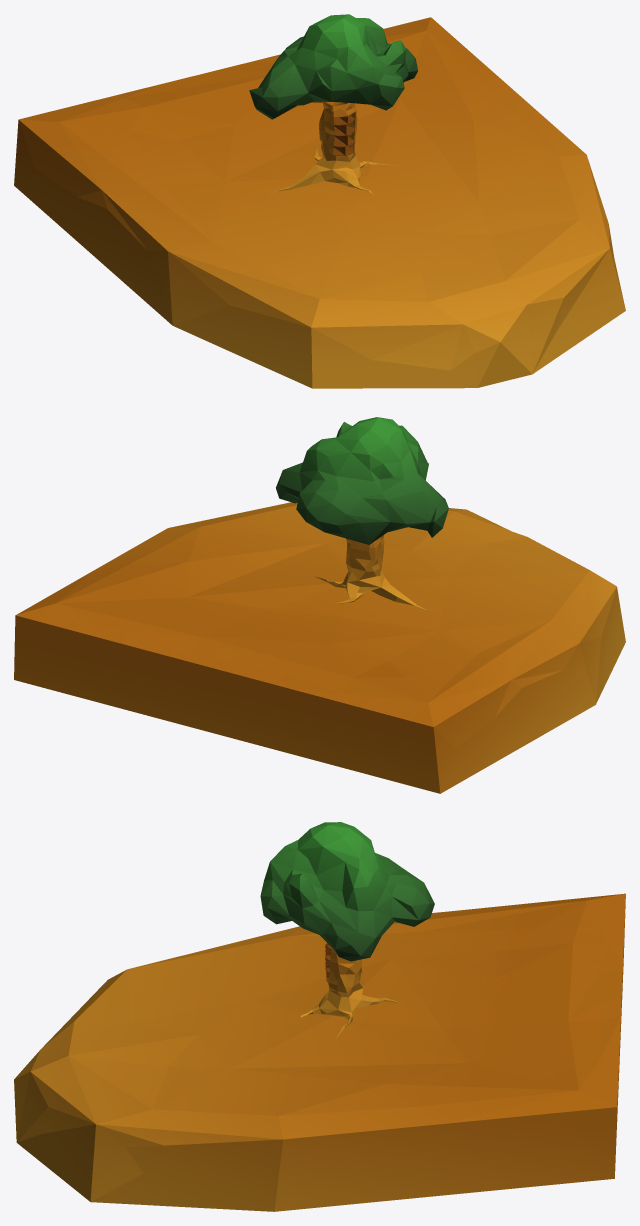
The model's file is glb test texture.glb.
The picture shows the model from 3 angles, top to bottom: view 1: azimuth 30°, elevation 25°; view 2: azimuth 150°, elevation 25°; view 3: azimuth 270°, elevation 25°; orthographic projection. The views are drawn at different scales.
Visible parts, largest first — view 1: G1_DM_door_tree_msh.004; view 2: G1_DM_door_tree_msh.004; view 3: G1_DM_door_tree_msh.004.
Boxes of the visible parts, x1,y1,x2,y2 form: G1_DM_door_tree_msh.004: (14,14,625,388); G1_DM_door_tree_msh.004: (14,417,625,793); G1_DM_door_tree_msh.004: (14,822,625,1211).
Size of the model in its own units: 32.69 by 19.7 by 37.4.
2 materials, 1 textured.
